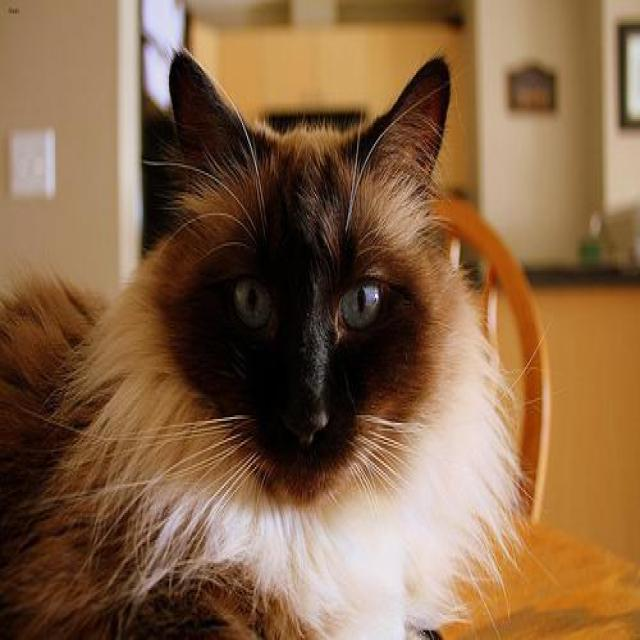cat: (0, 50, 507, 640)
